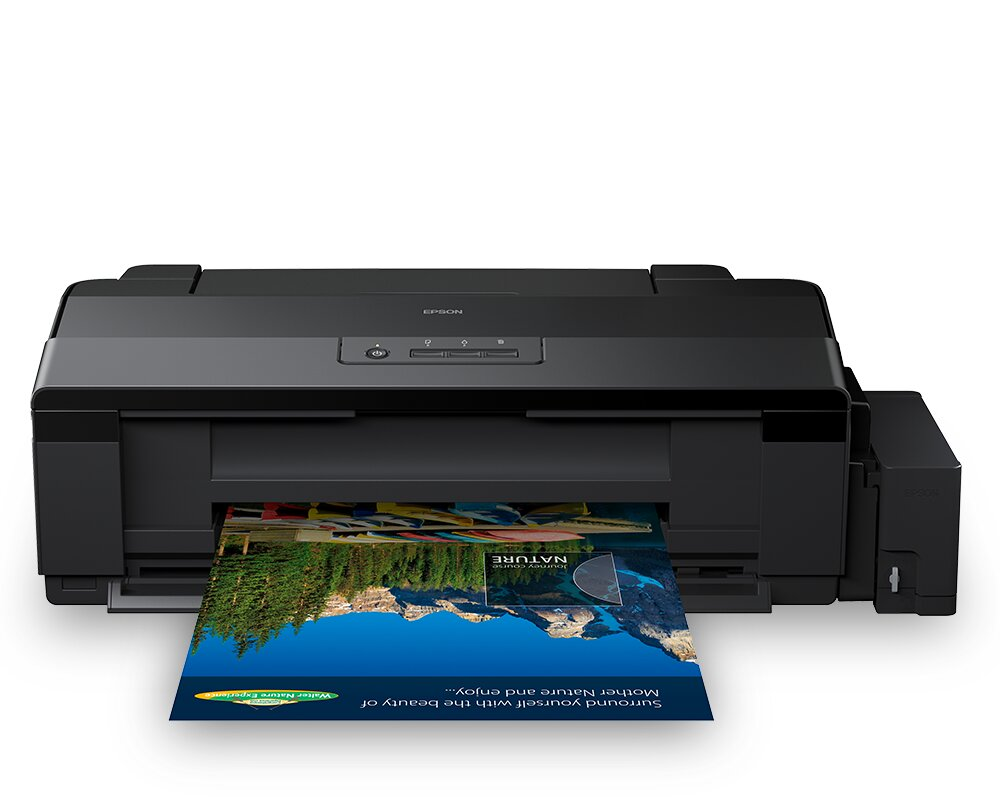printer: (29, 258, 964, 733)
